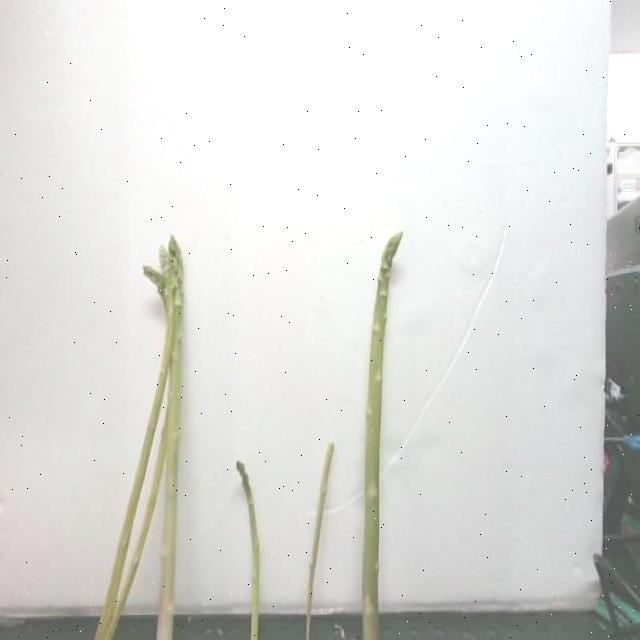aspargus: (361, 234, 404, 640), (235, 464, 260, 640)
